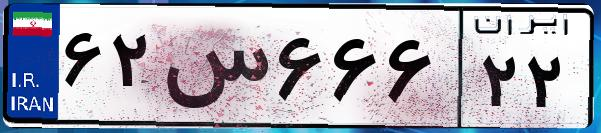2: (475, 38, 525, 113), (525, 38, 570, 115), (110, 28, 158, 98)
6: (270, 28, 330, 110), (385, 28, 445, 110), (330, 28, 385, 110), (57, 26, 110, 100)
س: (158, 20, 270, 120)
